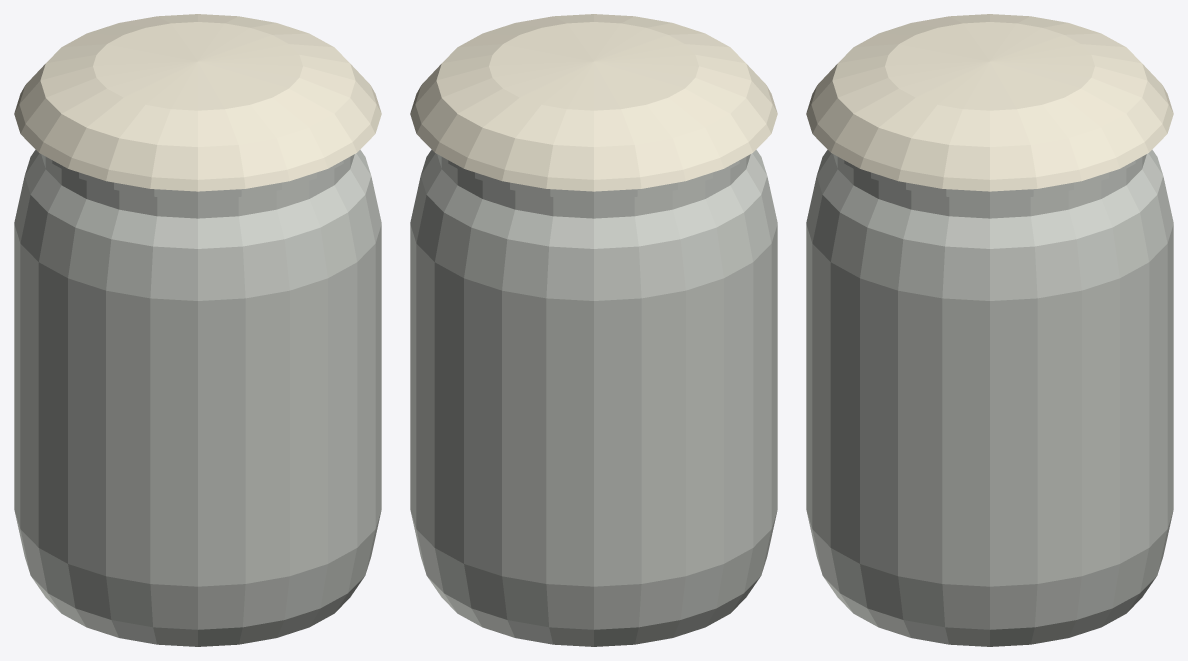
File: PCP_SealedJar.fbx
3 views of the same model, side by side, from view 1: azimuth 30°, elevation 25°; view 2: azimuth 150°, elevation 25°; view 3: azimuth 270°, elevation 25° (orthographic).
Visible parts, largest first — view 1: PCP_SealedJar; view 2: PCP_SealedJar; view 3: PCP_SealedJar.
Part boxes in pixels (x1,y1,x2,y2): PCP_SealedJar: [14, 14, 381, 646]; PCP_SealedJar: [410, 14, 777, 646]; PCP_SealedJar: [806, 14, 1173, 646].
Bounding box in the file's own units: 0.07 × 0.109 × 0.07.
